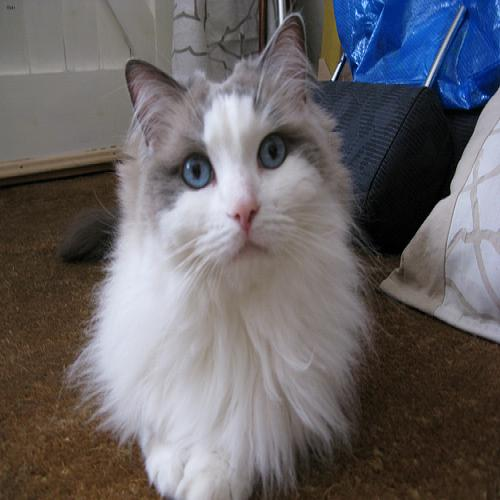ragdoll: (113, 10, 361, 339)
